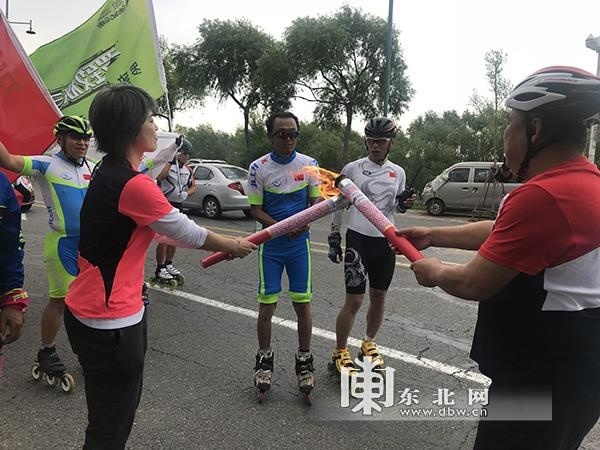fire: (294, 159, 341, 199)
